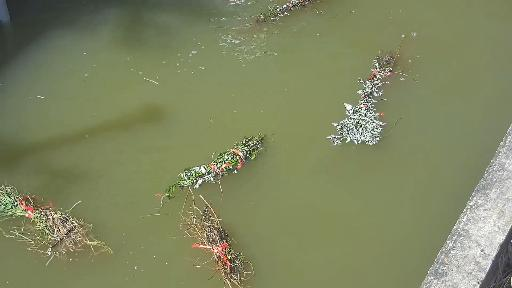twig: (331, 34, 427, 156), (0, 175, 107, 258), (155, 129, 276, 197), (160, 198, 254, 285), (251, 0, 349, 34)
